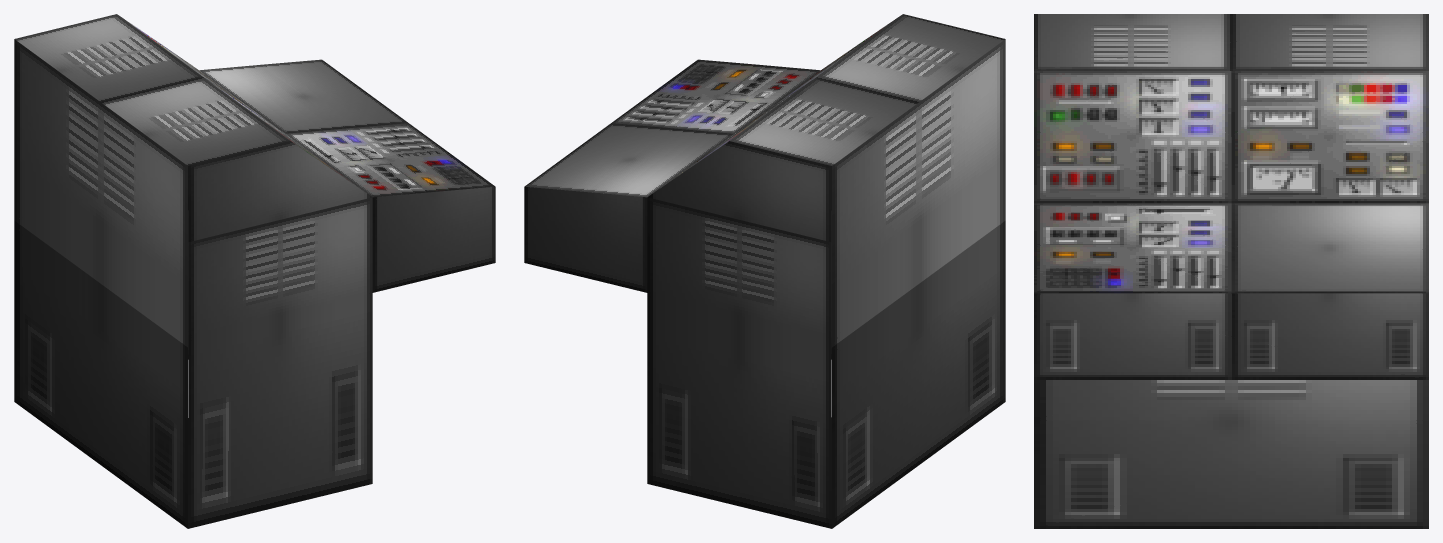
The model's file is primary_058.glb.
3 renders of one model, left to right at view 1: azimuth 30°, elevation 25°; view 2: azimuth 150°, elevation 25°; view 3: azimuth 270°, elevation 25°, orthographic. The views are drawn at different scales.
Parts seen in each view (by area): view 1: Object; view 2: Object; view 3: Object.
Boxes of the visible parts, left/top/right/bottom form: Object: left=14, top=14, right=495, bottom=528; Object: left=524, top=14, right=1005, bottom=528; Object: left=1034, top=14, right=1428, bottom=528.
Size of the model in its own units: 1.11 by 1.25 by 1.09.
Materials: 23 (23 with a texture image).
